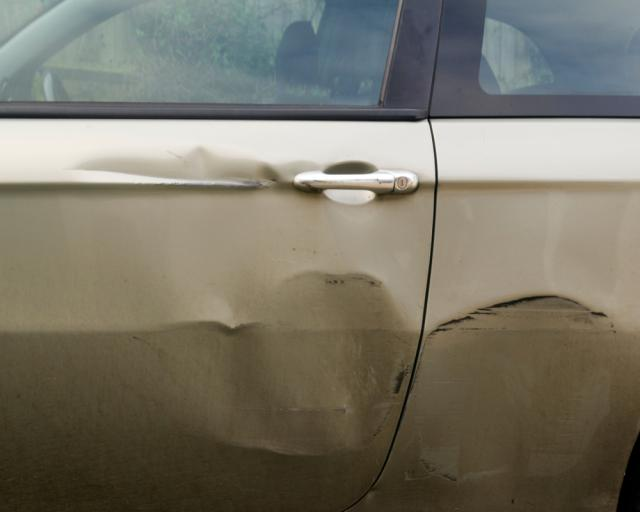dent: (180, 272, 404, 451), (415, 294, 620, 477), (77, 149, 322, 188)
